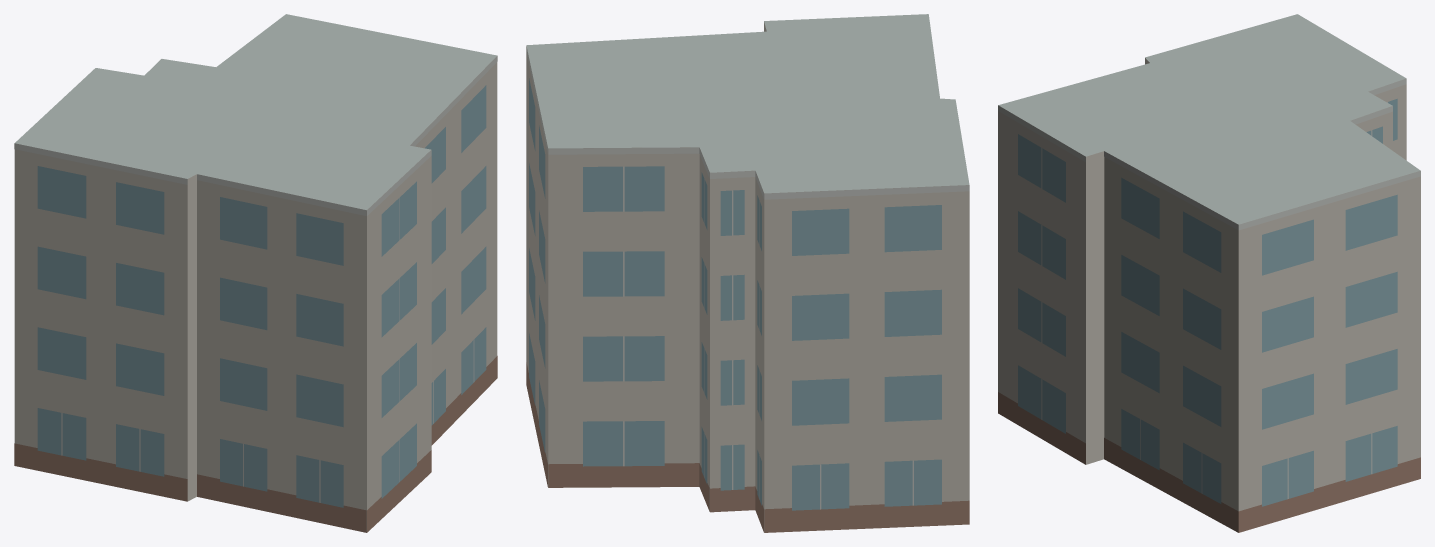
The model's file is survey-upis-33000350.glb.
The picture shows the model from 3 angles, left to right: view 1: azimuth 30°, elevation 25°; view 2: azimuth 150°, elevation 25°; view 3: azimuth 270°, elevation 25°; orthographic projection. The views are drawn at different scales.
Parts seen in each view (by area): view 1: survey-upis-33000350.tmp; view 2: survey-upis-33000350.tmp; view 3: survey-upis-33000350.tmp.
Boxes of the visible parts, x1,y1,x2,y2 form: survey-upis-33000350.tmp: (14,14,497,532); survey-upis-33000350.tmp: (526,14,969,532); survey-upis-33000350.tmp: (998,14,1420,532).
Size of the model in its own units: 19.22 by 13.1 by 16.29.
